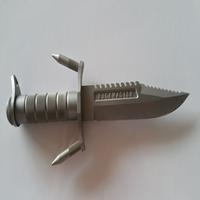knife: (6, 55, 192, 147)
